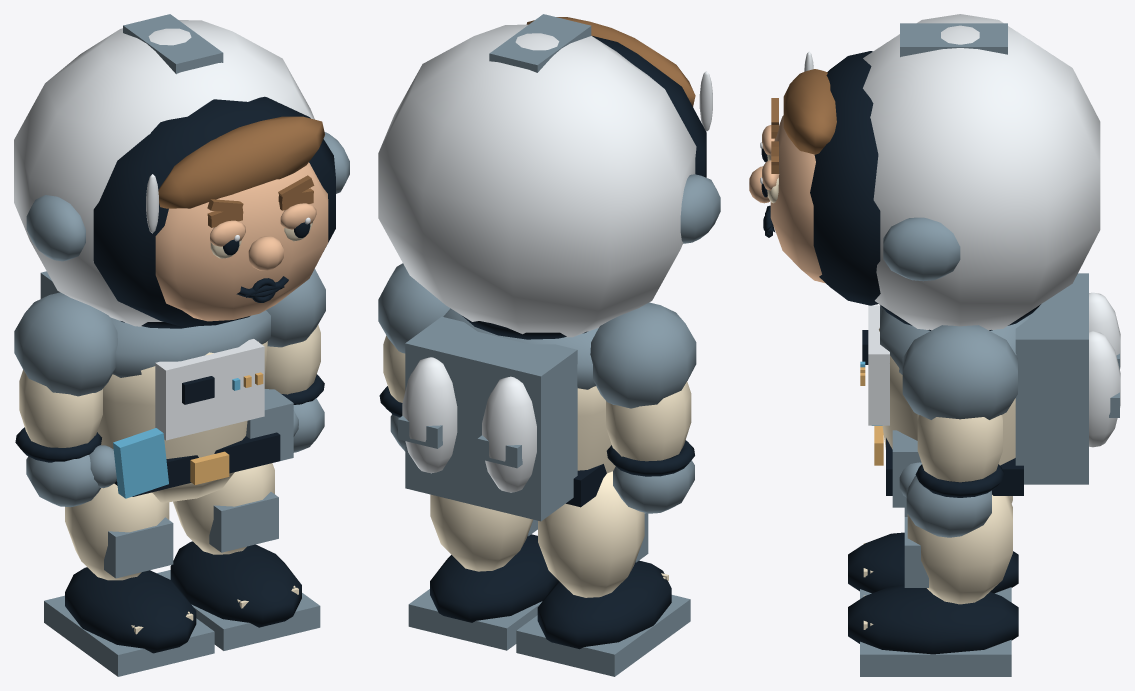
File: crew-pip.glb
3 views of the same model, side by side, from view 1: azimuth 30°, elevation 25°; view 2: azimuth 150°, elevation 25°; view 3: azimuth 270°, elevation 25° (orthographic). The views are drawn at different scales.
Parts seen in each view (by area): view 1: helmet-shell, boot (×2), visor-gasket, face, shoulder (×2), hairline, leg-pressure (×2), chest-panel, sole (×2), sleeve (×2), pressure-suit, knee-pad (×2) (+14 smaller); view 2: helmet-shell, life-pack, leg-pressure (×2), boot (×2), shoulder (×2), air-cell (×2), sole (×2), sleeve (×2), glove, helmet-crown, pressure-suit, visor-gasket (+8 smaller); view 3: helmet-shell, life-pack, visor-gasket, boot (×2), shoulder, leg-pressure, sleeve, face, sole, air-cell (×2), helmet-hinge, hairline (+9 smaller).
Part boxes in pixels (box(x1,y1,x2,y2)): helmet-shell: box(14, 20, 314, 326); boot (×2): box(65, 541, 301, 653); visor-gasket: box(93, 96, 335, 326); face: box(155, 162, 328, 321); shoulder (×2): box(14, 269, 325, 396); hairline: box(158, 116, 324, 208); leg-pressure (×2): box(65, 463, 274, 580); chest-panel: box(155, 339, 264, 440); sole (×2): box(44, 570, 320, 676); sleeve (×2): box(19, 325, 320, 447); pressure-suit: box(97, 341, 267, 502); knee-pad (×2): box(104, 492, 278, 578); helmet-shell: box(378, 24, 696, 337); life-pack: box(405, 316, 577, 521); leg-pressure (×2): box(430, 471, 644, 597); boot (×2): box(430, 534, 671, 649); shoulder (×2): box(378, 263, 696, 408); air-cell (×2): box(402, 357, 536, 492); sole (×2): box(408, 589, 690, 676); sleeve (×2): box(383, 335, 691, 461); glove: box(613, 460, 694, 513); helmet-crown: box(489, 14, 591, 72); pressure-suit: box(577, 386, 615, 473); visor-gasket: box(592, 36, 706, 177); helmet-shell: box(863, 14, 1100, 330); life-pack: box(1015, 273, 1088, 484); visor-gasket: box(810, 51, 880, 305); boot (×2): box(848, 532, 1018, 654); shoulder: box(902, 325, 1017, 419); leg-pressure: box(907, 495, 1012, 604); sleeve: box(917, 414, 1002, 482); face: box(770, 115, 825, 283); sole: box(860, 639, 1011, 676); air-cell (×2): box(1089, 292, 1120, 447); helmet-hinge: box(883, 217, 960, 281); hairline: box(783, 69, 836, 154).
Bounding box in the file's own units: 1.34 × 2.43 × 1.37.
